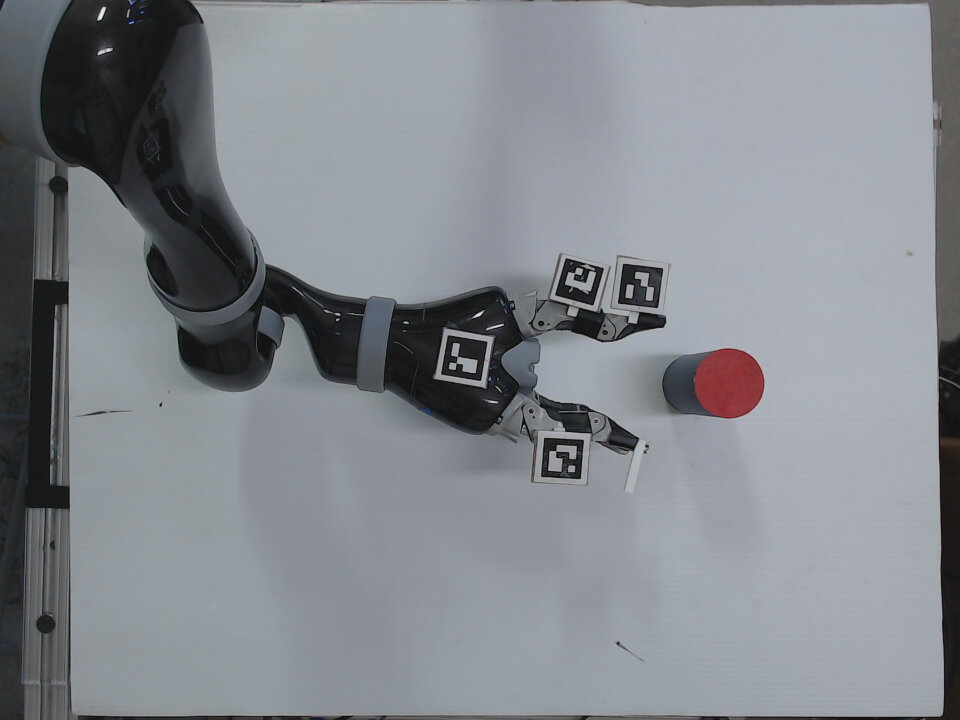cylinder: (658, 346, 768, 421)
